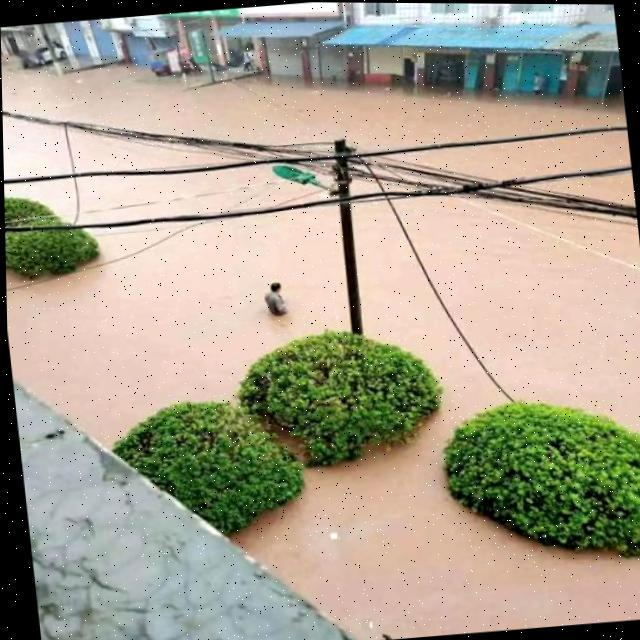civilian: (246, 263, 303, 332)
